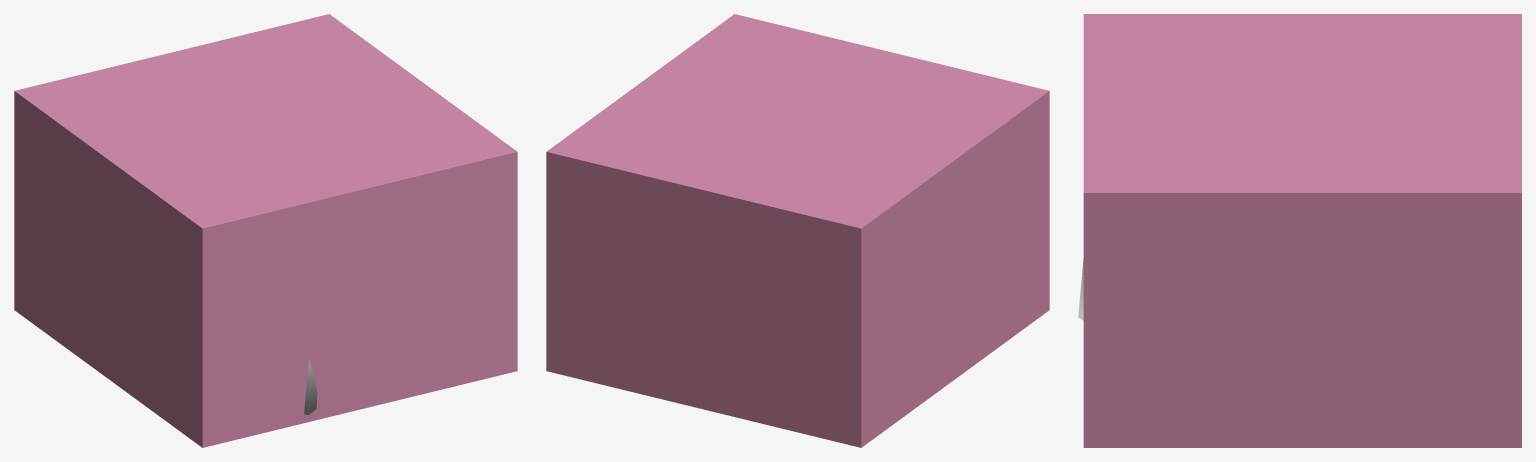
The model's file is utah_rock_big_b.dae.
The picture shows the model from 3 angles, left to right: view 1: azimuth 30°, elevation 25°; view 2: azimuth 150°, elevation 25°; view 3: azimuth 270°, elevation 25°; orthographic projection. The views are drawn at different scales.
Visible parts, largest first — view 1: Untitled; view 2: Untitled; view 3: Untitled.
Boxes of the visible parts, bbox=[...] form: Untitled: bbox=[14, 14, 517, 447]; Untitled: bbox=[546, 14, 1049, 447]; Untitled: bbox=[1083, 14, 1521, 447].
Bounding box in the file's own units: 1.92 × 2.02 × 1.28.
